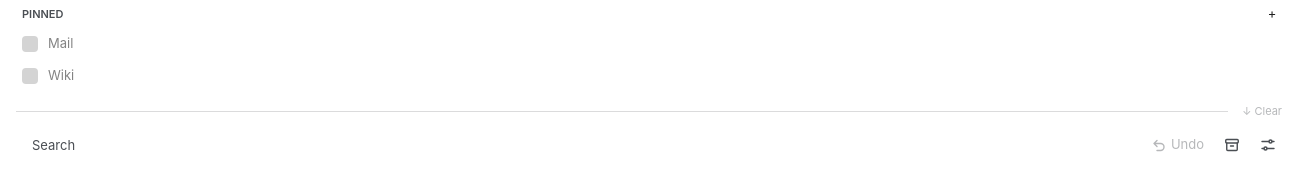
restores the normal view with the clear button, which shows only while the field has text
Type "mail" into the search field at (579, 145), box [22,131,1137,159]
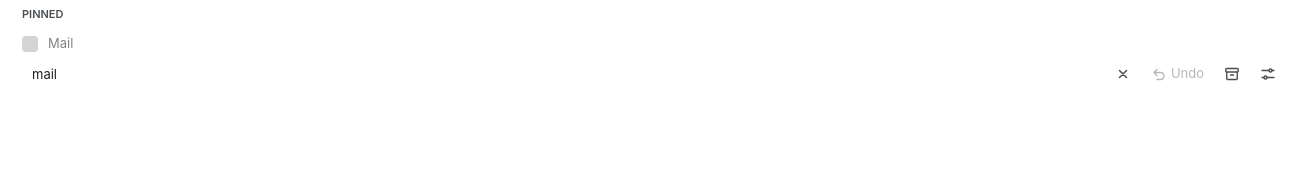
Result: the button "Wiki" is gone
Click the button named "Clear search" at (1123, 74), box [1113,64,1133,84]
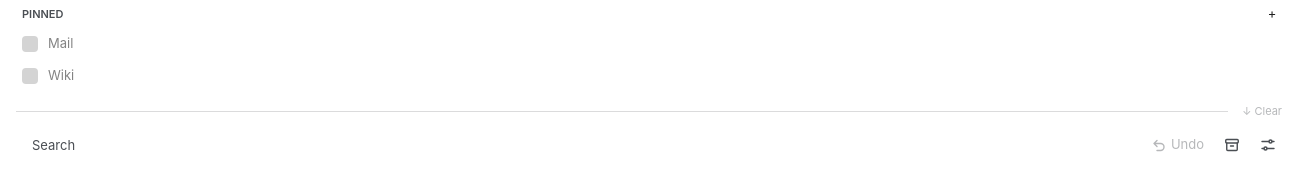
Result: the search field is empty at [22,131,1137,159]
Result: the button "Wiki" is shown at [12,60,1264,92]
